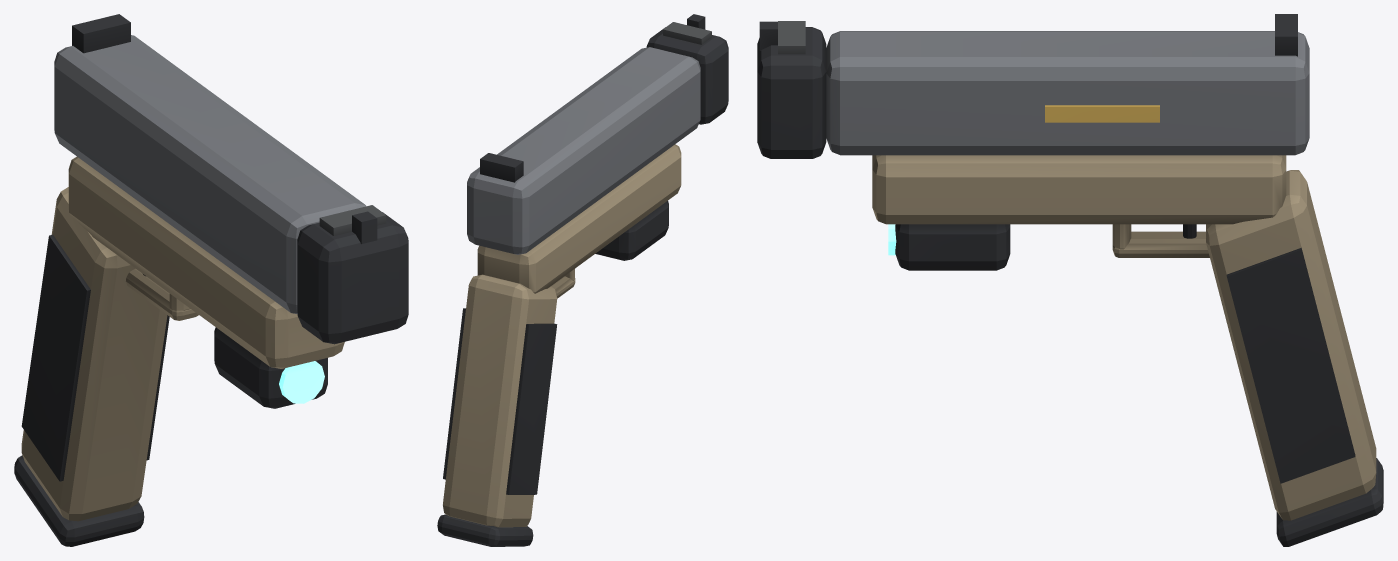
File: harrow_45.glb
3 renders of one model, left to right at view 1: azimuth 30°, elevation 25°; view 2: azimuth 150°, elevation 25°; view 3: azimuth 270°, elevation 25°, orthographic. The views are drawn at different scales.
Visible parts, largest first — view 1: harrow_45, mag; view 2: harrow_45, mag; view 3: harrow_45, mag.
Boxes of the visible parts, x1=… form: harrow_45: x1=21, y1=14, x2=408, y2=521; mag: x1=14, y1=455, x2=144, y2=546; harrow_45: x1=443, y1=14, x2=728, y2=527; mag: x1=437, y1=514, x2=533, y2=546; harrow_45: x1=757, y1=14, x2=1376, y2=520; mag: x1=1276, y1=458, x2=1383, y2=546.
Size of the model in its own units: 0.0442 by 0.2426 by 0.2722.
